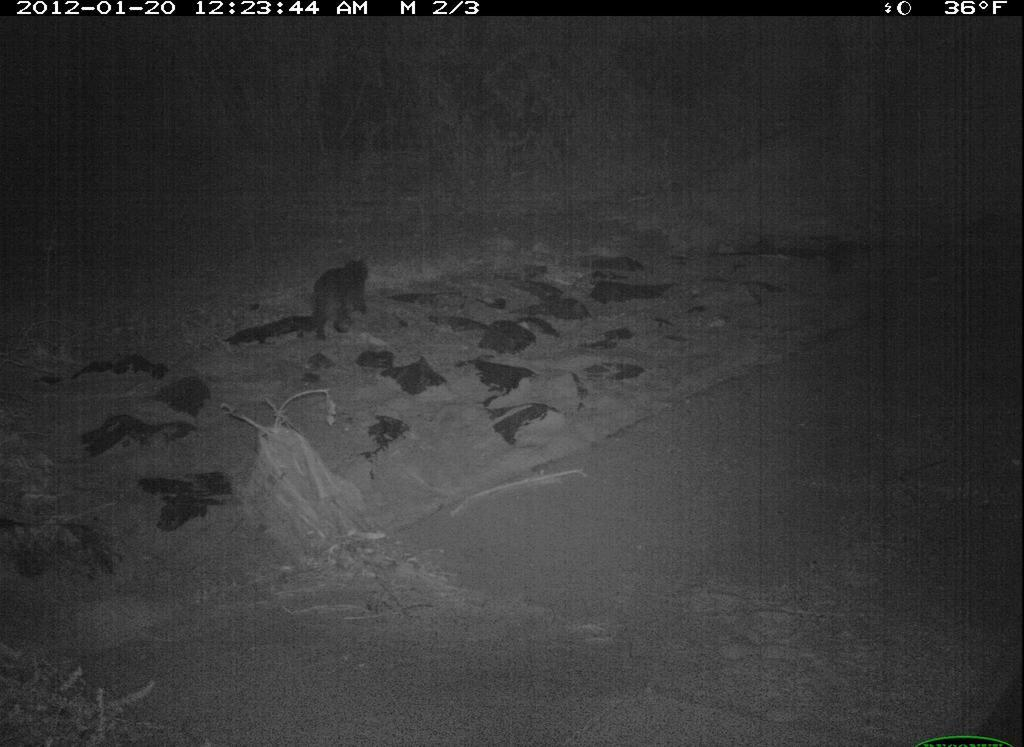cat: (296, 246, 390, 345)
